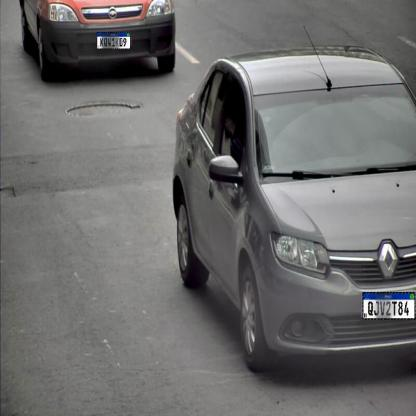PlacaM: (362, 292, 416, 320), (96, 32, 130, 49)
